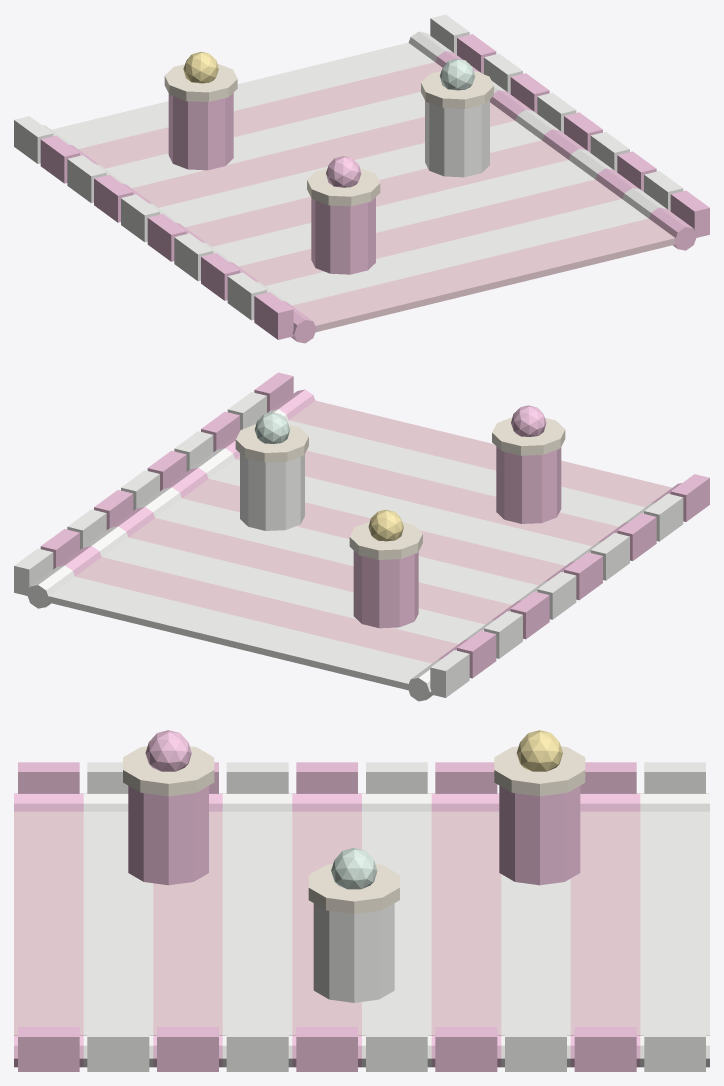
Rendered from draha_sikana.glb.
The picture shows the model from 3 angles, top to bottom: view 1: azimuth 30°, elevation 25°; view 2: azimuth 150°, elevation 25°; view 3: azimuth 270°, elevation 25°; orthographic projection. The views are drawn at different scales.
Parts seen in each view (by area): view 1: DrahaSikana_white, DrahaSikana_pink, DrahaSikana_lol, DrahaSikana_cream, DrahaSikana_yellow, DrahaSikana_mint; view 2: DrahaSikana_white, DrahaSikana_pink, DrahaSikana_lol, DrahaSikana_cream, DrahaSikana_mint, DrahaSikana_yellow; view 3: DrahaSikana_white, DrahaSikana_pink, DrahaSikana_lol, DrahaSikana_cream, DrahaSikana_mint, DrahaSikana_yellow.
Boxes of the visible parts, box(x1,y1,x2,y2) form: DrahaSikana_white: box(14, 14, 683, 320); DrahaSikana_pink: box(78, 62, 675, 332); DrahaSikana_lol: box(40, 34, 709, 343); DrahaSikana_cream: box(164, 63, 493, 206); DrahaSikana_yellow: box(183, 51, 218, 83); DrahaSikana_mint: box(440, 58, 475, 90); DrahaSikana_white: box(14, 392, 683, 701); DrahaSikana_pink: box(75, 400, 671, 663); DrahaSikana_lol: box(40, 372, 709, 678); DrahaSikana_cream: box(235, 417, 565, 559); DrahaSikana_mint: box(254, 412, 290, 443); DrahaSikana_yellow: box(368, 509, 403, 541); DrahaSikana_white: box(83, 762, 709, 1071); DrahaSikana_pink: box(14, 811, 640, 1035); DrahaSikana_lol: box(14, 730, 640, 1071); DrahaSikana_cream: box(123, 746, 585, 913); DrahaSikana_mint: box(331, 847, 377, 889); DrahaSikana_yellow: box(516, 730, 562, 771).
Size of the model in its own units: 8.4 by 2.21 by 9.
